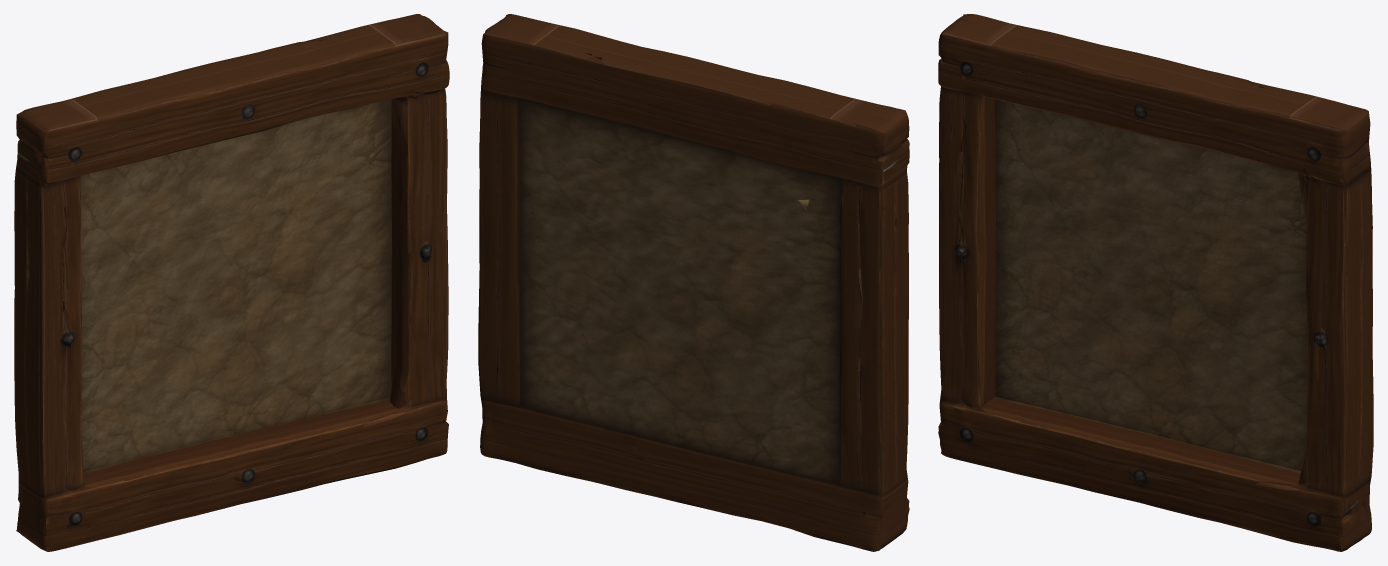
The model's file is Rustic Ceiling (tex_dungeon_ceiling).glb.
The picture shows the model from 3 angles, left to right: view 1: azimuth 30°, elevation 25°; view 2: azimuth 150°, elevation 25°; view 3: azimuth 330°, elevation 25°; orthographic projection.
Parts seen in each view (by area): view 1: Mesh0; view 2: Mesh0; view 3: Mesh0.
Boxes of the visible parts, x1,y1,x2,y2 form: Mesh0: (14, 14, 449, 551); Mesh0: (478, 14, 909, 551); Mesh0: (938, 14, 1373, 551).
Size of the model in its own units: 1.89 by 1.89 by 0.2649.
1 material, 1 textured.
